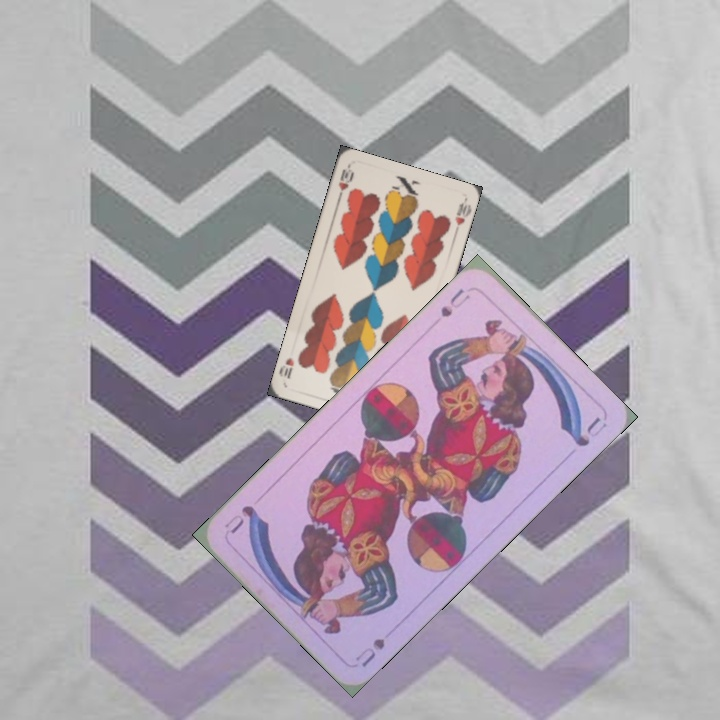H10: (334, 163, 356, 202)
SU: (436, 284, 473, 320), (351, 634, 387, 670)
